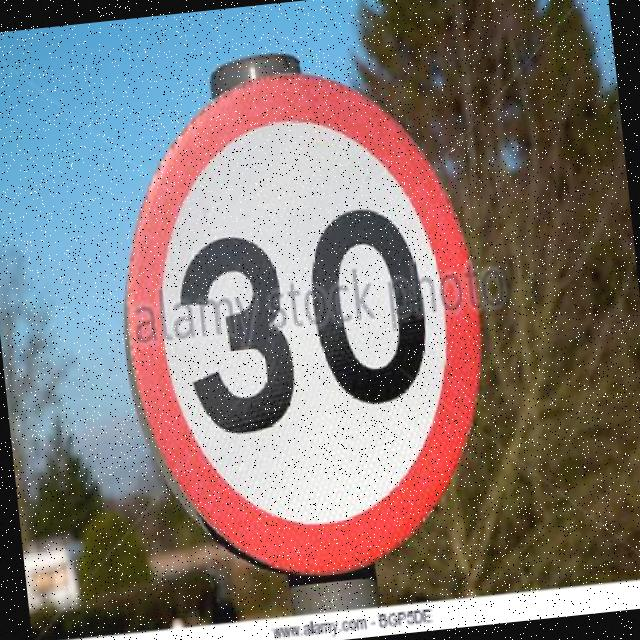Ograniczenie predkosci do 30: (115, 70, 498, 584)
